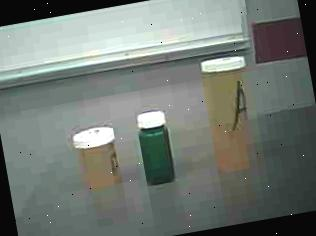Bottle A: (195, 48, 270, 184)
Bottle B: (70, 118, 130, 196)
Bottle C: (128, 102, 184, 194)
